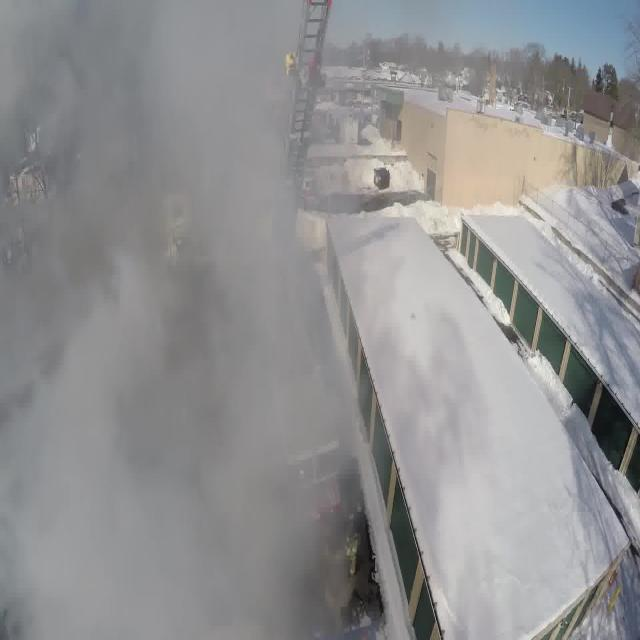Smoke: (0, 4, 320, 640)
